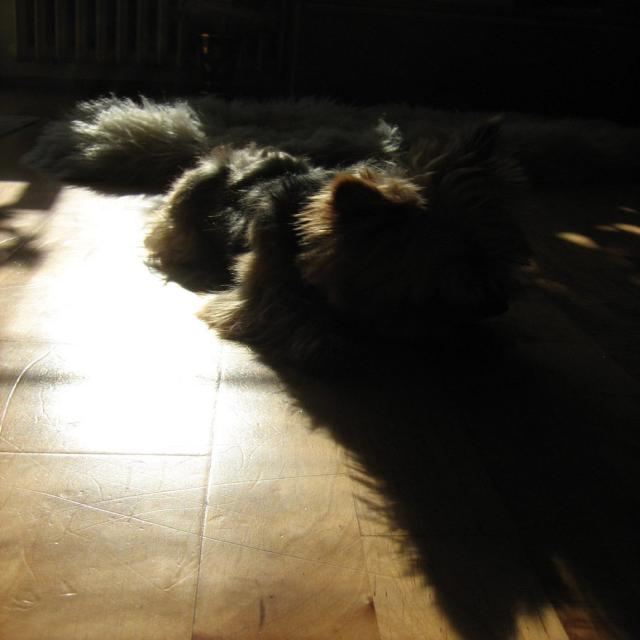Dog: (66, 67, 640, 526)
